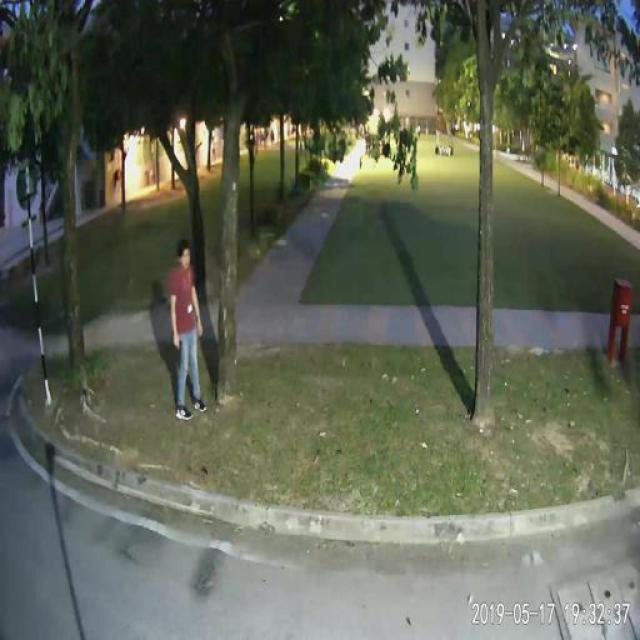weapon: (174, 341, 184, 370)
